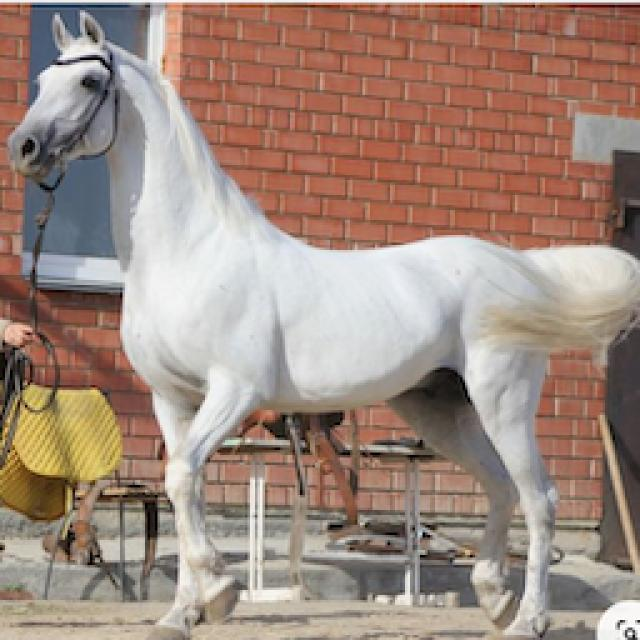Horse: (2, 8, 638, 638)
